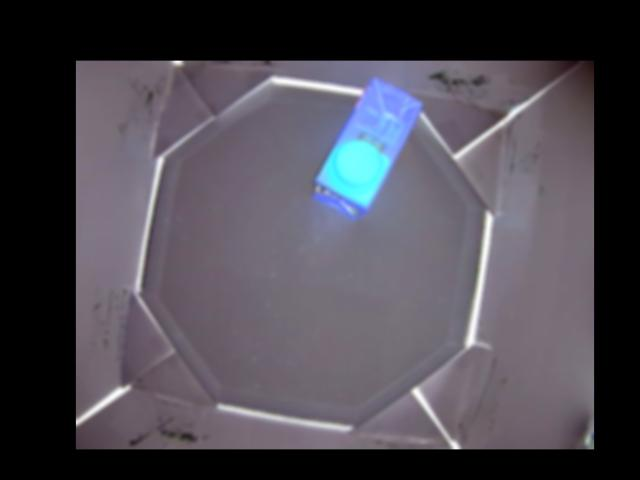Bottle: (310, 76, 423, 218)
